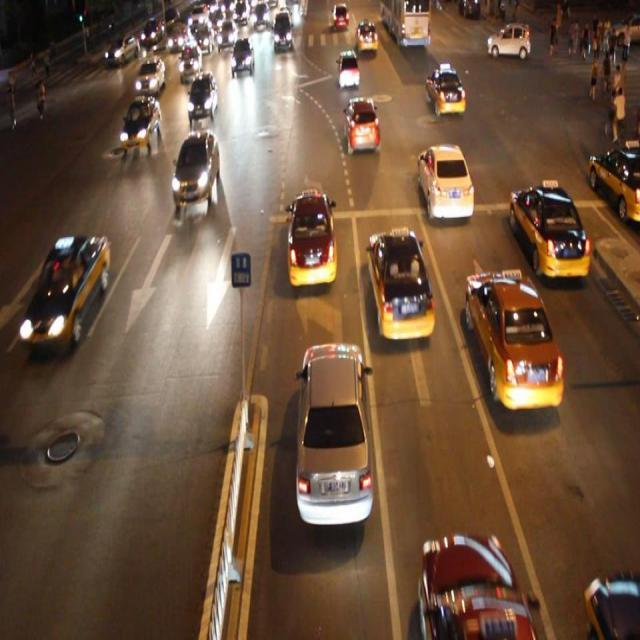BigCar: (386, 0, 432, 47)
car: (287, 340, 375, 523), (468, 270, 566, 418), (414, 528, 536, 640), (14, 230, 109, 354), (506, 178, 591, 283), (367, 226, 437, 342), (284, 188, 339, 286), (416, 144, 476, 226), (170, 133, 218, 210), (342, 92, 385, 159), (117, 92, 161, 156), (426, 64, 468, 117), (486, 22, 529, 66), (133, 54, 165, 95), (187, 72, 215, 118), (104, 28, 135, 68), (230, 33, 256, 78), (337, 47, 364, 87), (271, 13, 296, 52), (175, 43, 198, 78), (359, 19, 380, 53), (142, 14, 160, 50), (167, 19, 184, 53), (253, 4, 271, 32), (216, 19, 235, 45), (334, 5, 349, 31)
